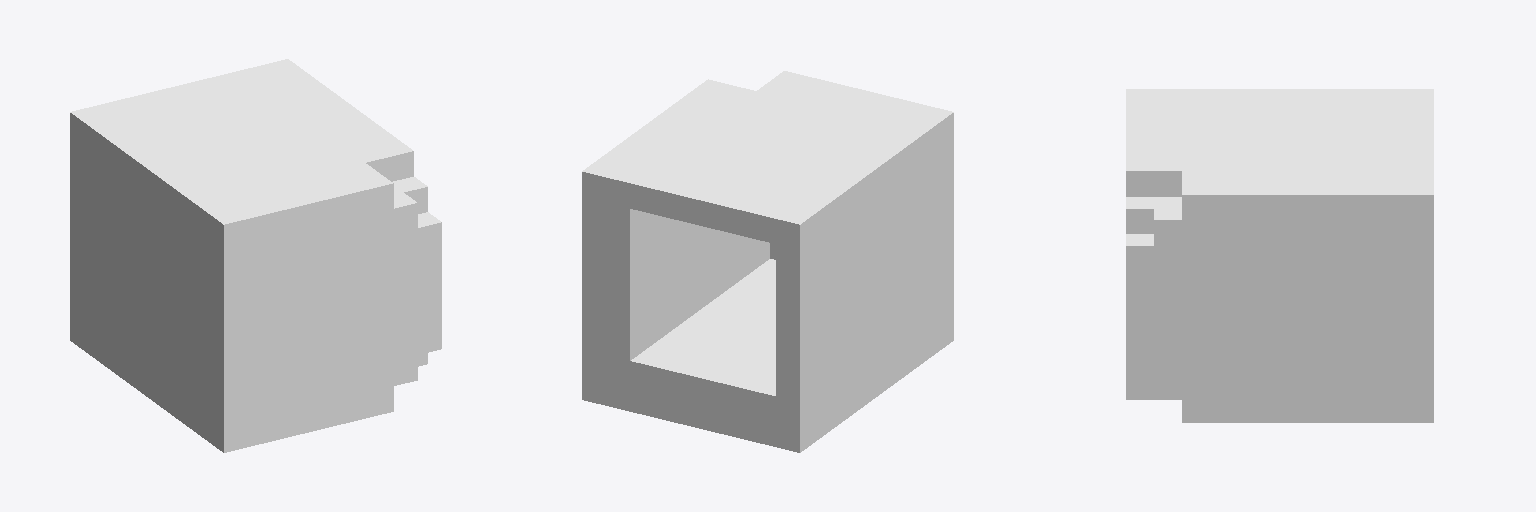
Rendered from humanoid-13.obj.
3 renders of one model, left to right at view 1: azimuth 30°, elevation 25°; view 2: azimuth 150°, elevation 25°; view 3: azimuth 270°, elevation 25°, orthographic.
Parts seen in each view (by area): view 1: humanoid-13; view 2: humanoid-13; view 3: humanoid-13.
Boxes of the visible parts, x1,y1,x2,y2 form: humanoid-13: [70, 59, 441, 452]; humanoid-13: [582, 71, 953, 452]; humanoid-13: [1126, 89, 1433, 422].
Size of the model in its own units: 9 by 9 by 11.